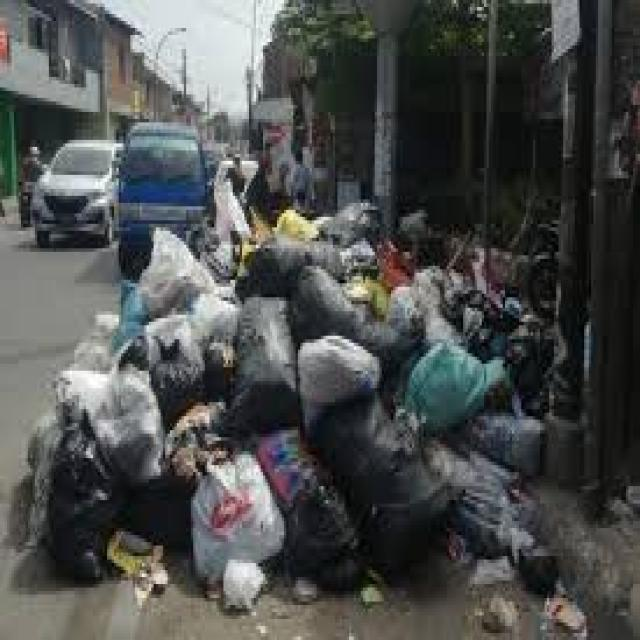trash: (39, 270, 590, 634)
